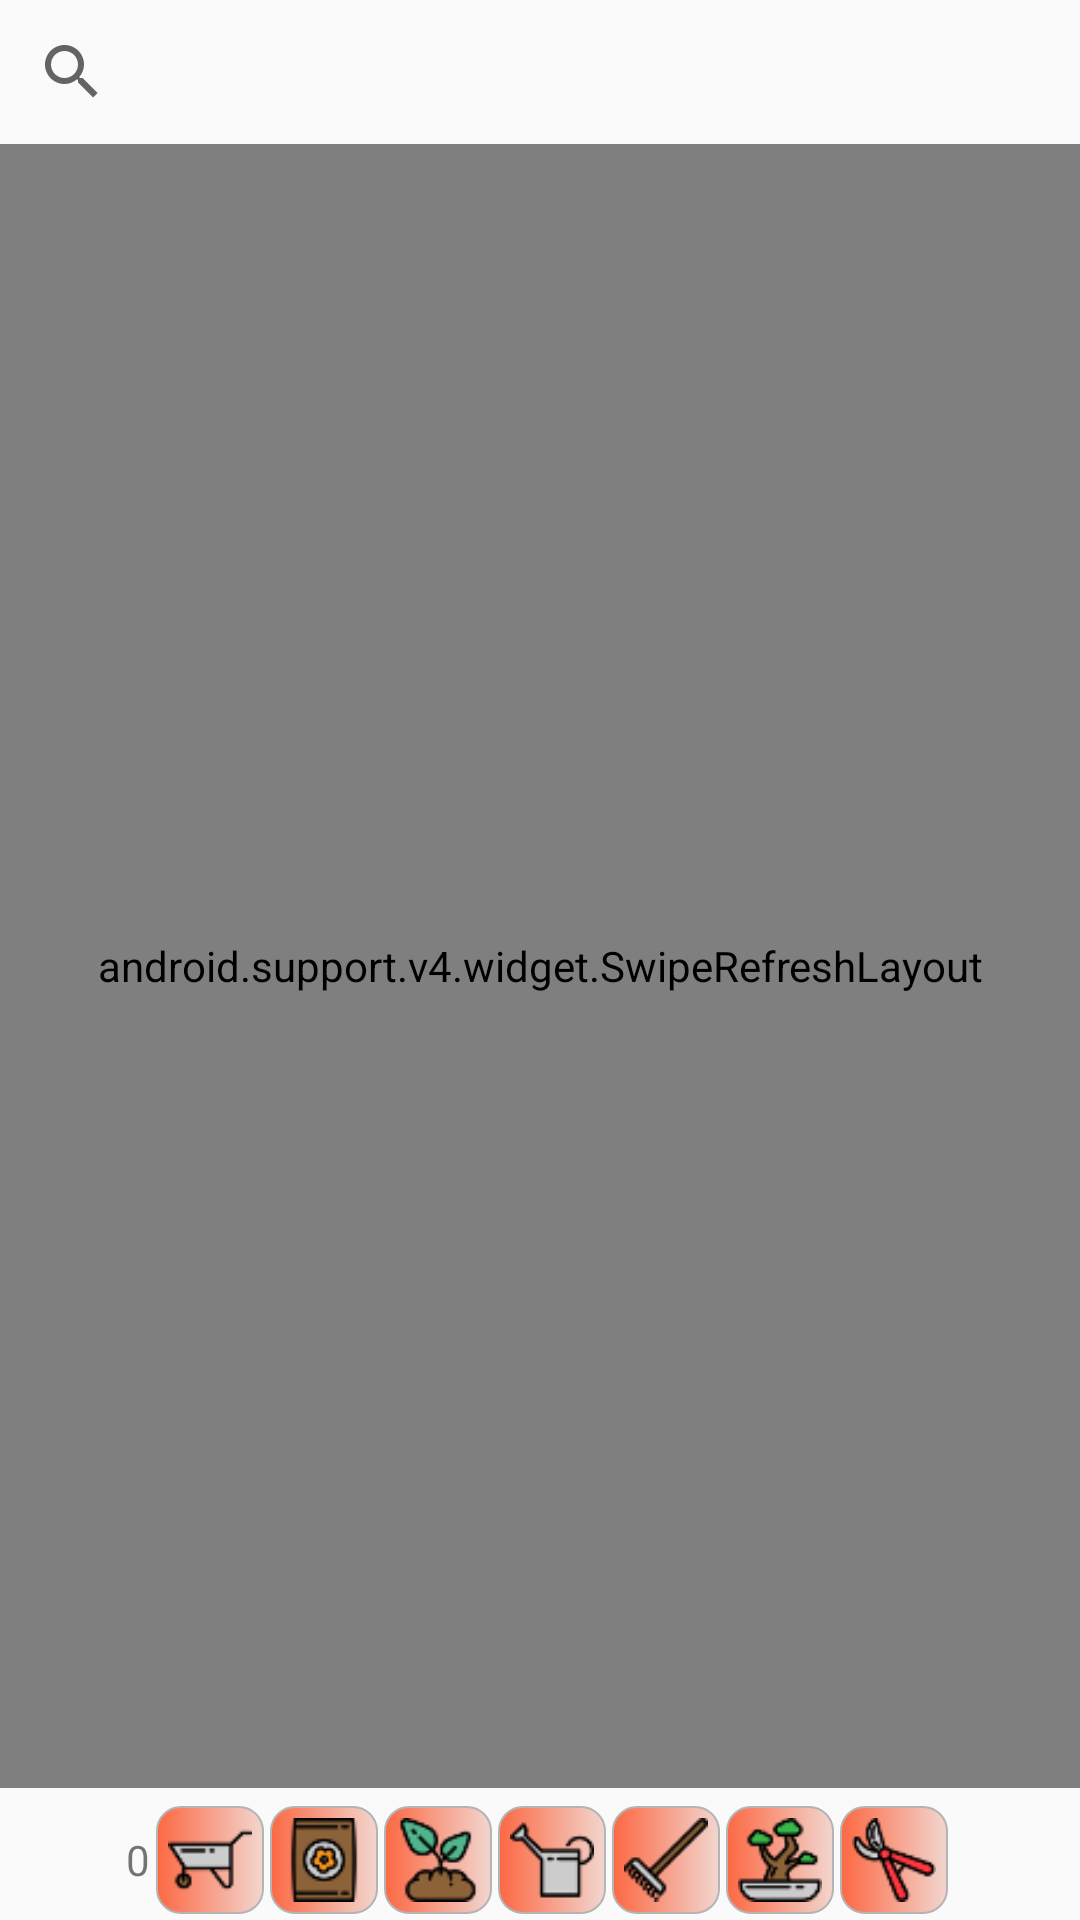

Screen size 1080×1920. Icon name, then its center in pixels as point (x, y):
decorar: point (780, 1860)
limpiar: point (666, 1860)
pflege: point (894, 1860)
recoger: point (210, 1860)
regar: point (552, 1860)
